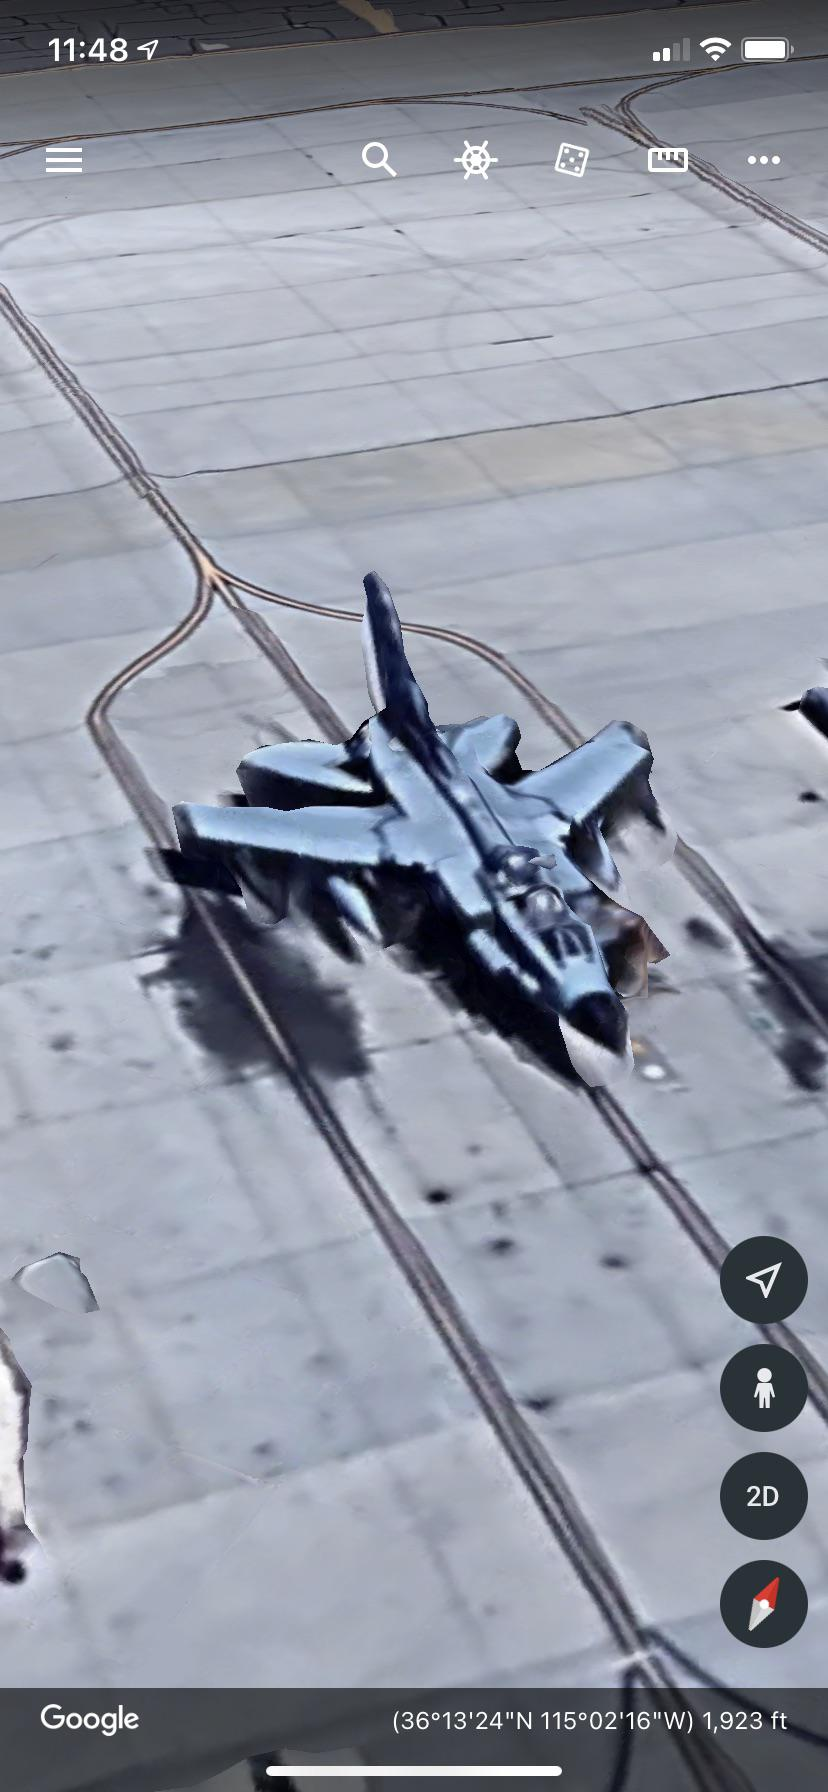Tornado: (172, 570, 654, 1061)
